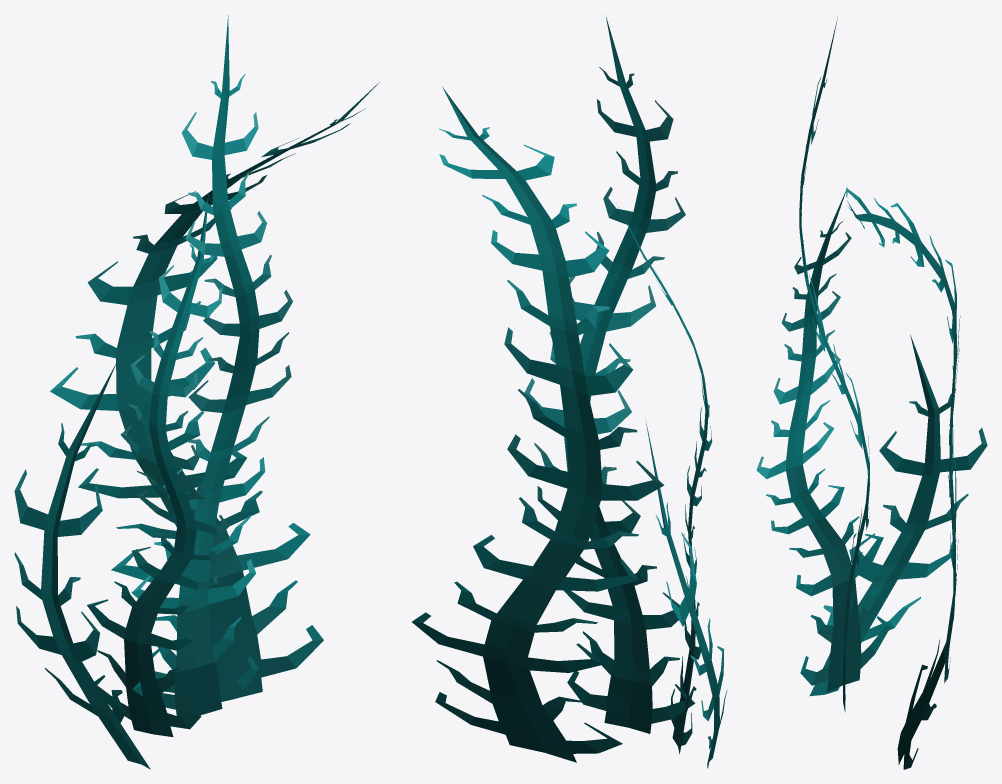
File: CS_Plant_25_L2.fbx
3 views of the same model, side by side, from view 1: azimuth 30°, elevation 25°; view 2: azimuth 150°, elevation 25°; view 3: azimuth 270°, elevation 25° (orthographic).
Visible parts, largest first — view 1: Plant_25_L2_a, Plant_25_L2_c, Plant_25_L2_b, Plant_25_L2_d; view 2: Plant_25_L2_a, Plant_25_L2_c, Plant_25_L2_b, Plant_25_L2_d; view 3: Plant_25_L2_b, Plant_25_L2_d, Plant_25_L2_a, Plant_25_L2_c.
Boxes of the visible parts, left/top/right/bottom form: Plant_25_L2_a: left=50, top=82, right=379, bottom=701; Plant_25_L2_c: left=131, top=15, right=292, bottom=717; Plant_25_L2_b: left=87, top=194, right=228, bottom=737; Plant_25_L2_d: left=14, top=361, right=150, bottom=769; Plant_25_L2_a: left=412, top=87, right=664, bottom=762; Plant_25_L2_c: left=524, top=15, right=695, bottom=733; Plant_25_L2_b: left=618, top=207, right=712, bottom=753; Plant_25_L2_d: left=645, top=420, right=727, bottom=768; Plant_25_L2_b: left=756, top=191, right=891, bottom=692; Plant_25_L2_d: left=809, top=334, right=987, bottom=696; Plant_25_L2_a: left=846, top=188, right=960, bottom=769; Plant_25_L2_c: left=799, top=18, right=869, bottom=712.
Size of the model in its own units: 0.278 by 0.6165 by 0.1777.
